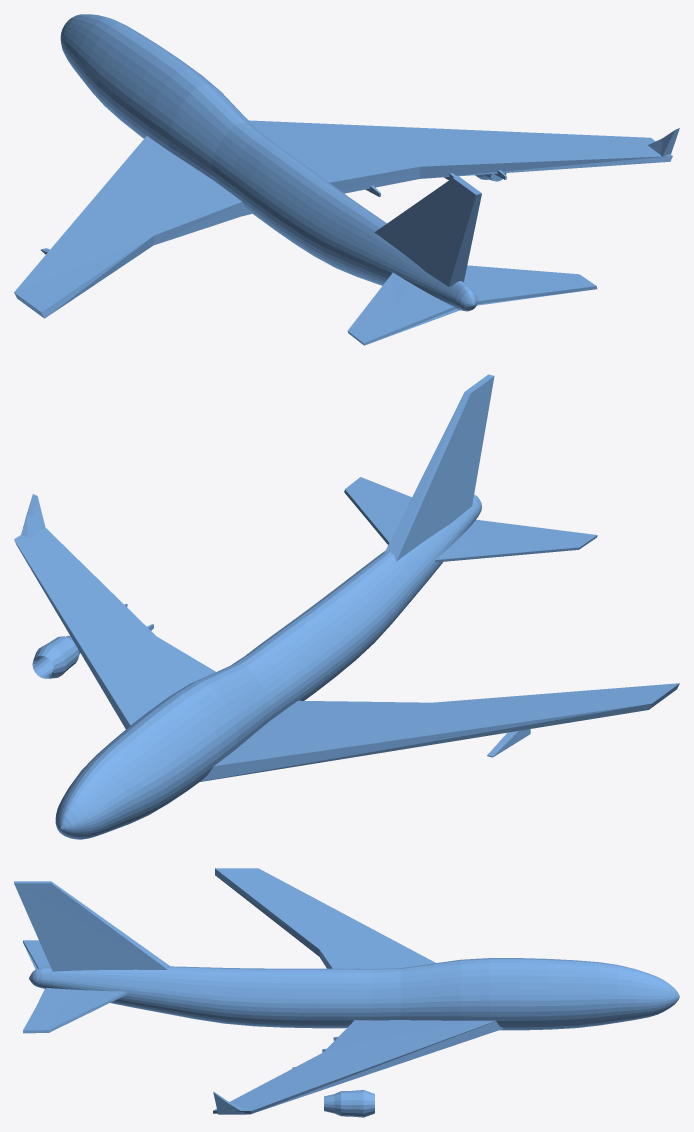
Rendered from boeing.dae.
3 renders of one model, top to bottom at view 1: azimuth 30°, elevation 25°; view 2: azimuth 150°, elevation 25°; view 3: azimuth 270°, elevation 25°, orthographic. The views are drawn at different scales.
Parts seen in each view (by area): view 1: Line01, Cylinder01, Box03, Box02; view 2: Cylinder01, Line01, Box02, Box03, Cylinder03; view 3: Cylinder01, Line01, Box02, Box03, Cylinder03, Box04.
Part boxes in pixels (x1=…): Line01: x1=14, y1=120, x2=672, y2=318; Cylinder01: x1=60, y1=14, x2=477, y2=311; Box03: x1=347, y1=265, x2=597, y2=345; Box02: x1=374, y1=176, x2=481, y2=286; Cylinder01: x1=55, y1=494, x2=481, y2=839; Line01: x1=14, y1=527, x2=679, y2=781; Box02: x1=384, y1=374, x2=494, y2=561; Box03: x1=344, y1=477, x2=597, y2=562; Cylinder03: x1=32, y1=635, x2=80, y2=678; Cylinder01: x1=29, y1=958, x2=679, y2=1030; Line01: x1=213, y1=868, x2=503, y2=1114; Box02: x1=14, y1=881, x2=169, y2=971; Box03: x1=23, y1=940, x2=126, y2=1033; Cylinder03: x1=324, y1=1090, x2=374, y2=1117; Box04: x1=213, y1=1091, x2=247, y2=1114.
Bounding box in the file's own units: 1402 × 1592 × 398.
